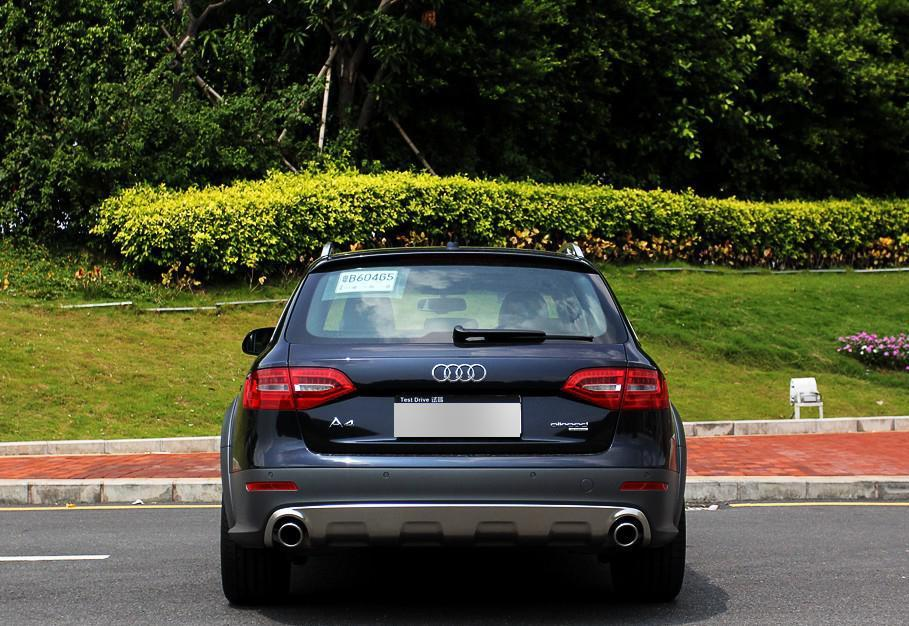Wagon: (219, 239, 689, 605)
